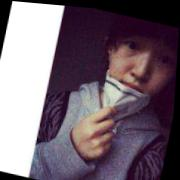WRONG: (99, 17, 180, 116)
